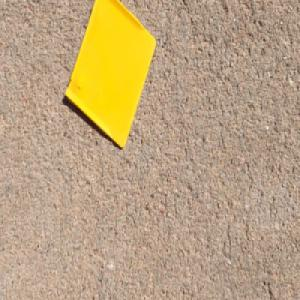PlasticPart: (62, 0, 157, 150)
